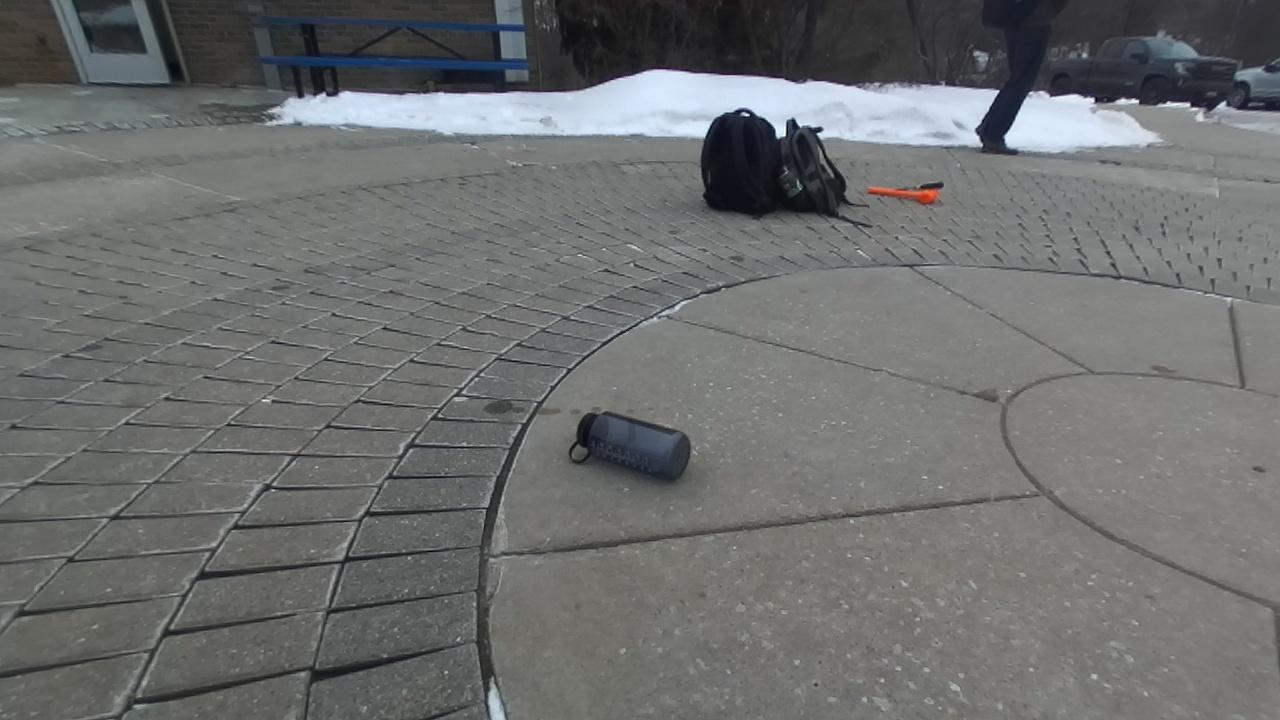bottle: (570, 411, 690, 480)
mallet: (868, 187, 938, 204)
